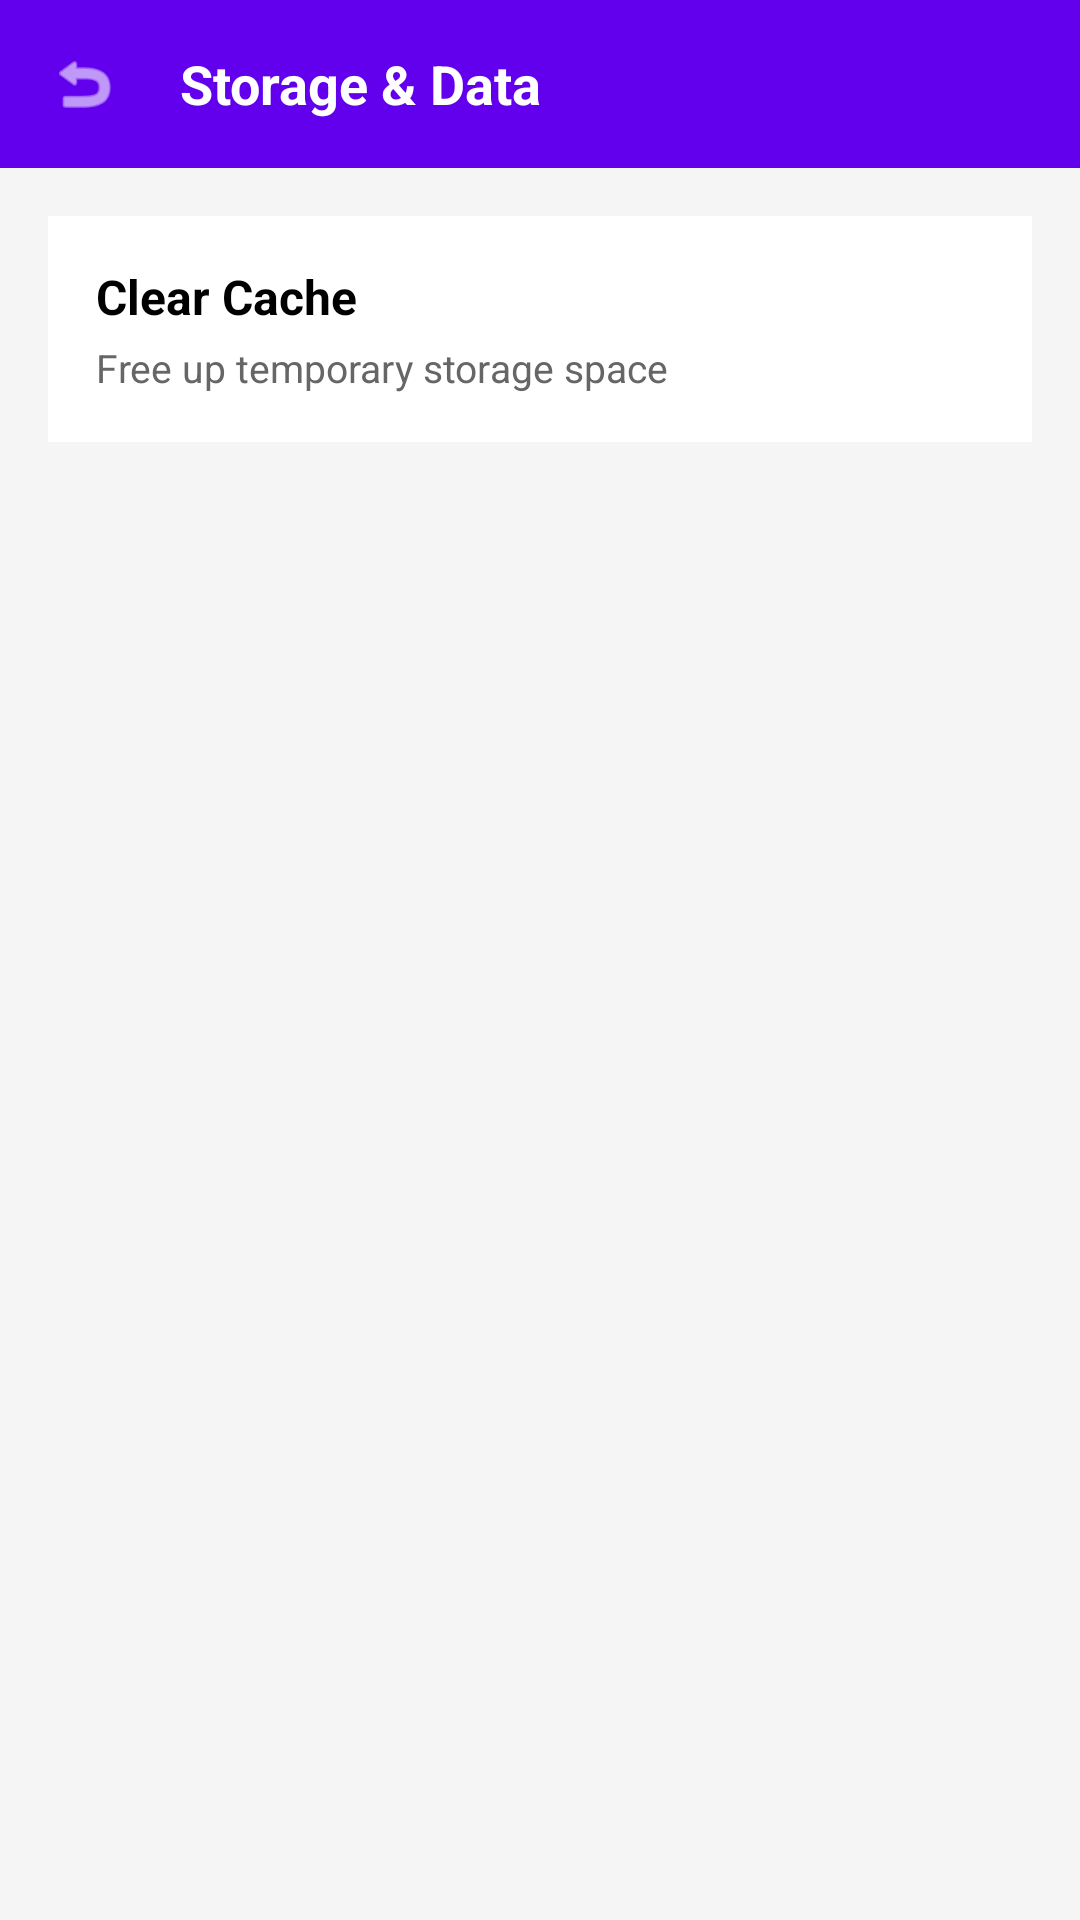

Locate icon controls on the screen. Image size 1080 x 1920, boxes as (left=x1, top=y1, right=x2, bottom=y2).
Back: (left=59, top=61, right=111, bottom=108)
